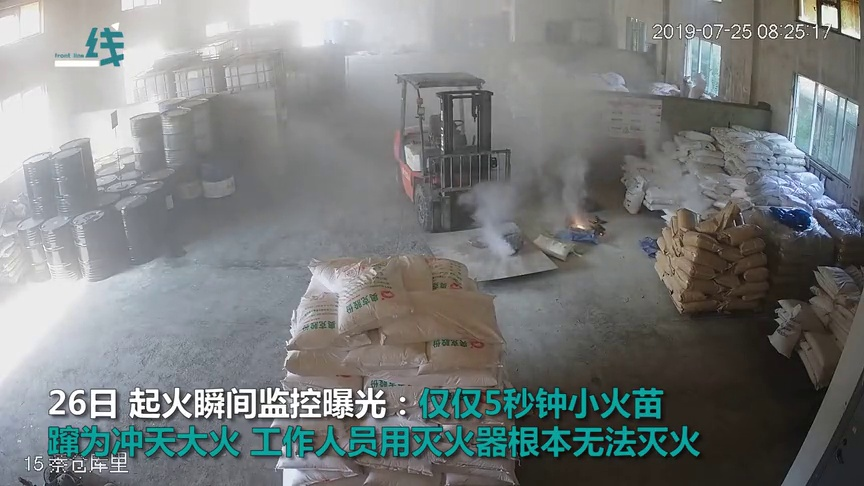smoke: (524, 93, 588, 217), (463, 174, 514, 251)
